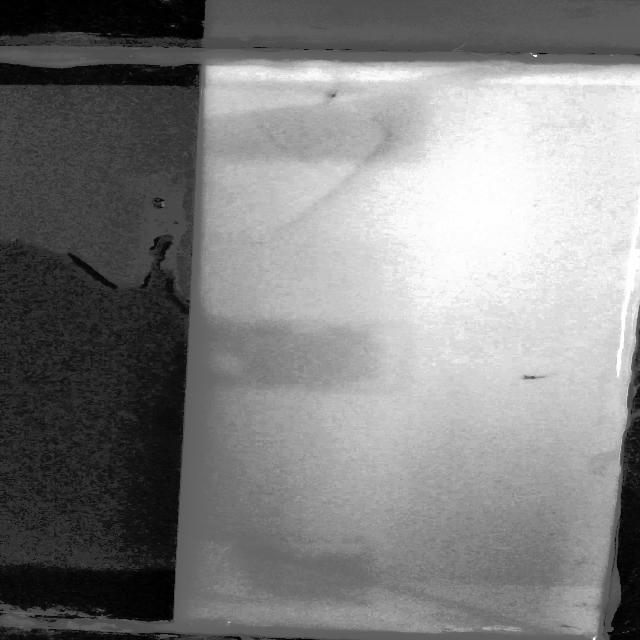shrimp: (513, 371, 555, 388), (550, 619, 588, 633), (321, 86, 343, 102)
